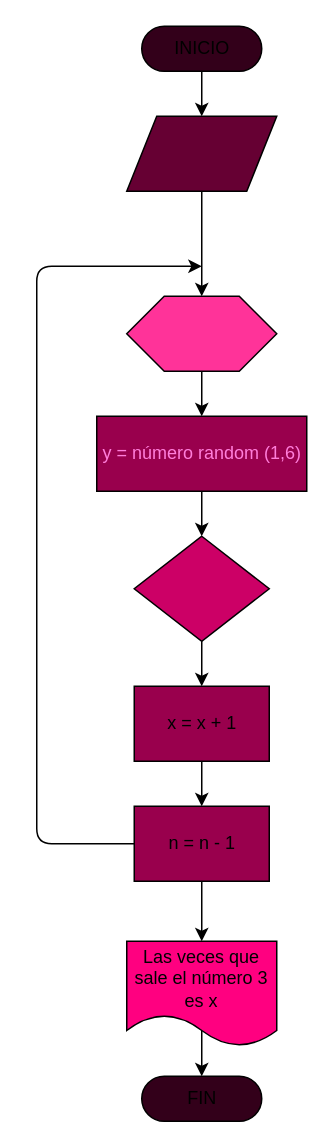
The diagram is 333 pixels wide and 1148 high, and some of its shapes have lost their labels. Each missing label, with the box of its shape:
n > 0: (125, 295, 277, 371)
n x = 0: (125, 115, 277, 191)
y == 3: (133, 535, 269, 641)
